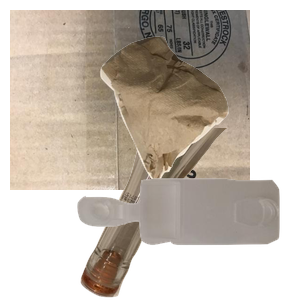cardboard: (10, 10, 250, 190)
glass: (78, 128, 298, 300)
plastic: (75, 176, 300, 300)
trash: (98, 34, 300, 211)
